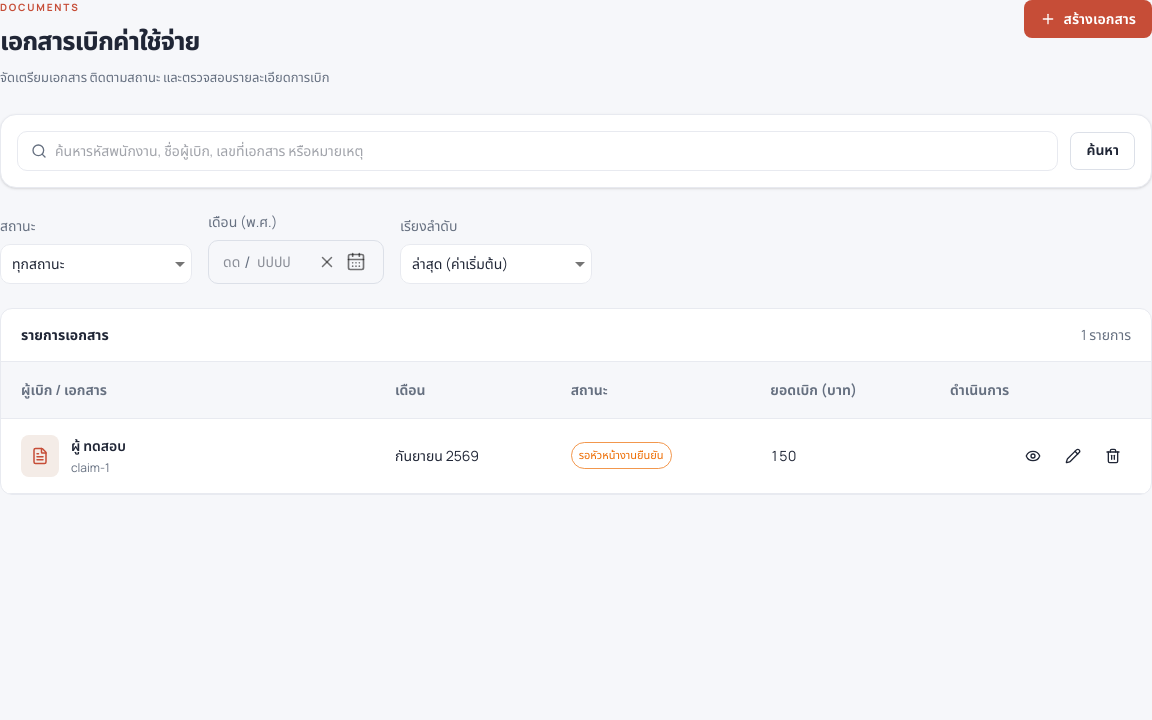
Test: claim presentation preserves behavior › does not invent selected days for a legacy document with no saved dates
The width and height of the screenshot is (1152, 720).
Step 1. Click the button named "แก้ไขเอกสาร claim-1" → click(1073, 456), box [1055,437,1091,475]
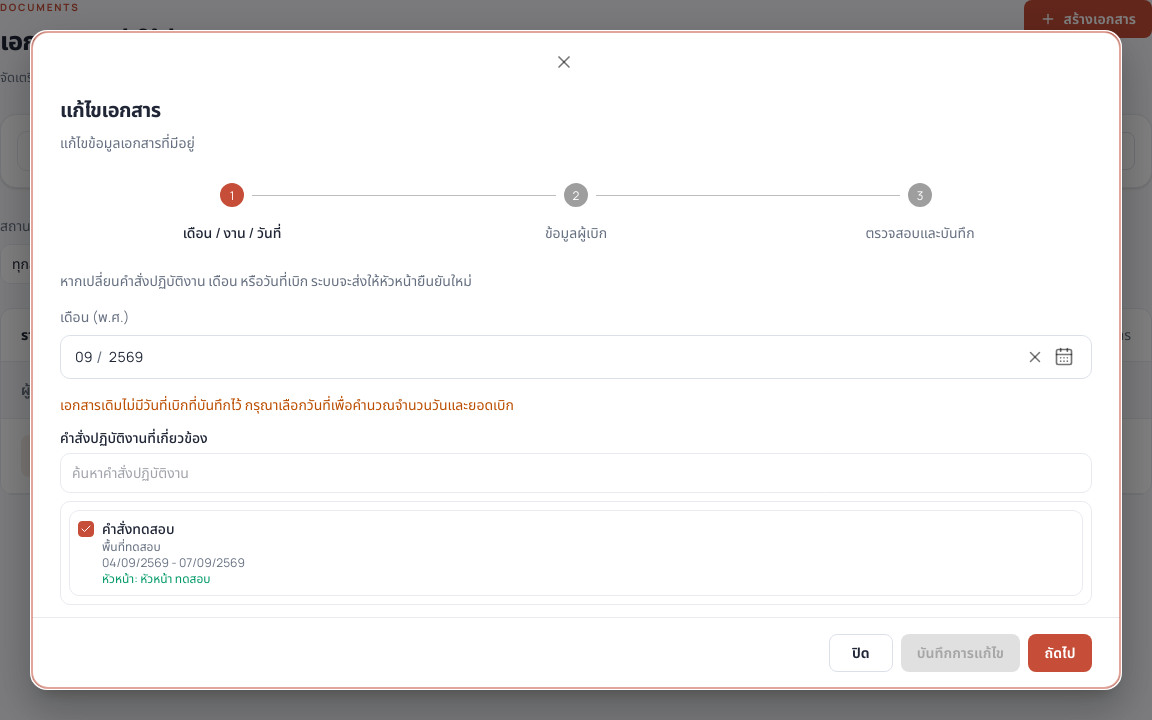
Check: the button "คำสั่งทดสอบ" is shown, box [69,510,1083,596]
Check: the text "เอกสารเดิมไม่มีวันที่เบิก" is shown, box [60,395,514,414]
